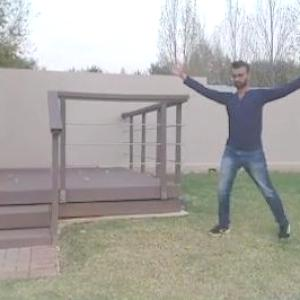takeoff: (171, 56, 300, 237)
